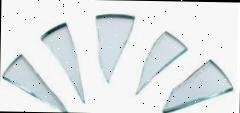glass: (1, 11, 234, 113)
